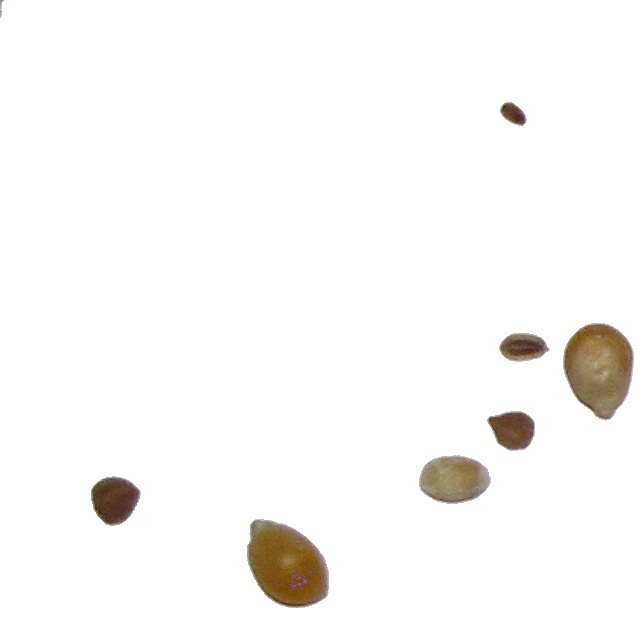buckwheat: (90, 475, 142, 527), (486, 410, 536, 452), (498, 332, 551, 363)
mais: (246, 518, 330, 609), (562, 322, 635, 422)
other: (418, 454, 492, 505), (502, 101, 531, 127)
